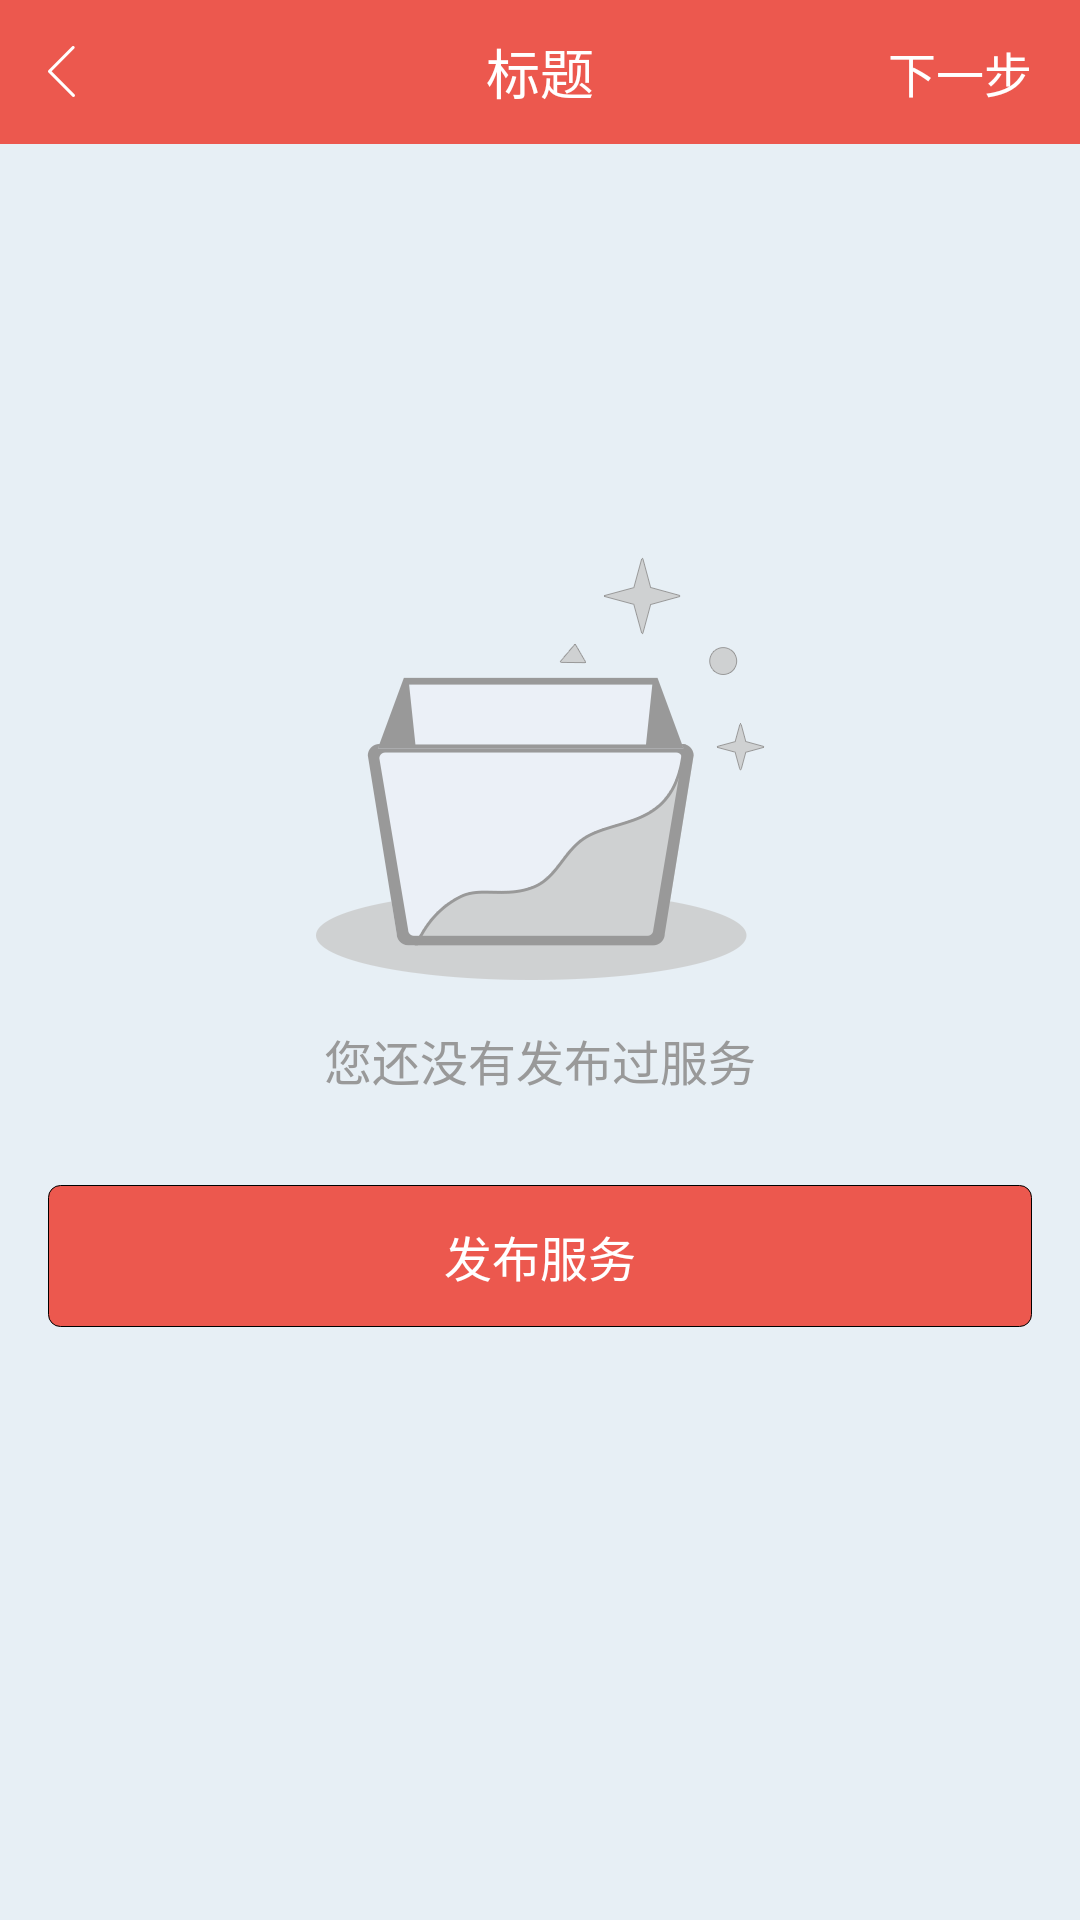

Where to tap for icons on this 1080 × 1920 app screen, as (x,y):
back: (61,71)
